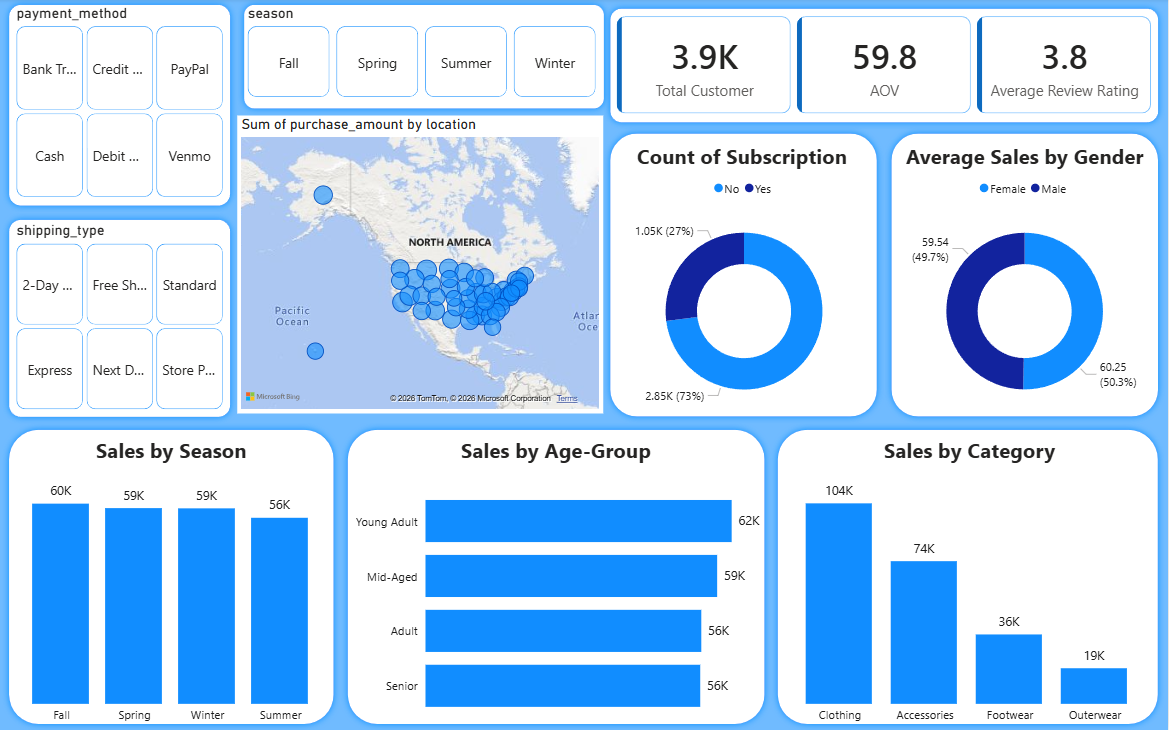

Layout of this report page (visuals, bound fields, positions):
{"tool":"powerbi","page":{"name":"Page 1","canvas":[1380,860],"ordinal":0},"visuals":[{"type":"shape","box":[717.5,4.4,658.3,149.4],"z":0},{"type":"cardVisual","fields":{"Data":["public customer_behavior.Number of customer","public customer_behavior.AOV","public customer_behavior.Average review rating"]},"box":[732.3,20.7,630.2,116.9],"z":1000},{"type":"shape","box":[717.5,150.9,328.4,347.7],"z":2000},{"type":"donutChart","fields":{"Category":["public customer_behavior.subscription_status"],"Y":["CountNonNull(public customer_behavior.subscription_status)"]},"box":[717.5,207.1,329.9,291.4],"z":3000},{"type":"shape","box":[914.3,498.6,461.6,361],"z":4000},{"type":"clusteredColumnChart","fields":{"Category":["public customer_behavior.category"],"Y":["Sum(public customer_behavior.purchase_amount)"]},"box":[914.3,553.3,461.6,301.8],"z":5000},{"type":"shape","box":[1047.4,150.9,328.4,347.7],"z":6000},{"type":"shape","box":[409.8,498.6,504.5,361],"z":7000},{"type":"clusteredBarChart","fields":{"Category":["public customer_behavior.age_group"],"Y":["Sum(public customer_behavior.purchase_amount)"]},"box":[420.2,553.3,482.3,306.2],"z":8000},{"type":"donutChart","fields":{"Category":["public customer_behavior.gender"],"Y":["Avg(public customer_behavior.purchase_amount)"]},"box":[1047.4,207.1,328.4,291.4],"z":9000},{"type":"shape","box":[13.3,498.6,396.5,361],"z":10000},{"type":"clusteredColumnChart","fields":{"Category":["public customer_behavior.season"],"Y":["Sum(public customer_behavior.purchase_amount)"]},"box":[13.3,553.3,396.5,301.8],"z":11000},{"type":"textbox","box":[914.3,508.9,466,44.4],"z":12000},{"type":"textbox","box":[13.3,508.9,396.5,44.4],"z":13000},{"type":"textbox","box":[409.8,508.9,504.5,44.4],"z":14000},{"type":"shape","box":[13.3,0,275.2,251.5],"z":15000},{"type":"textbox","box":[1047.4,164.2,328.4,42.9],"z":16000},{"type":"textbox","box":[719,164.2,328.4,42.9],"z":17000},{"type":"shape","box":[13.3,251.5,275.2,247.1],"z":18000},{"type":"shape","box":[288.5,0,437.9,137.6],"z":19000},{"type":"advancedSlicerVisual","fields":{"Values":["public customer_behavior.payment_method"]},"box":[25.2,7.4,253,232.3],"z":20000},{"type":"advancedSlicerVisual","fields":{"Values":["public customer_behavior.season"]},"box":[295.9,7.4,421.6,113.9],"z":21000},{"type":"advancedSlicerVisual","fields":{"Values":["public customer_behavior.shipping_type"]},"box":[25.2,261.9,253,224.9],"z":22000},{"type":"map","fields":{"Category":["public customer_behavior.location"],"Size":["Sum(public customer_behavior.purchase_amount)"]},"box":[288.5,137.6,429,349.1],"z":23000}]}

Visuals, with their boxes in screenshot pixels (x1, y1, x2, y2), scaled from the page's 1380x860 canvas onto the 1169x730 screenshot:
shape: {"x1": 608, "y1": 4, "x2": 1165, "y2": 131}
cardVisual - public customer_behavior.Number of customer x public customer_behavior.AOV: {"x1": 620, "y1": 18, "x2": 1154, "y2": 117}
shape: {"x1": 608, "y1": 128, "x2": 886, "y2": 423}
donutChart - public customer_behavior.subscription_status x CountNonNull(public customer_behavior.subscription_status): {"x1": 608, "y1": 176, "x2": 887, "y2": 423}
shape: {"x1": 775, "y1": 423, "x2": 1166, "y2": 729}
clusteredColumnChart - public customer_behavior.category x Sum(public customer_behavior.purchase_amount): {"x1": 775, "y1": 470, "x2": 1166, "y2": 726}
shape: {"x1": 887, "y1": 128, "x2": 1165, "y2": 423}
shape: {"x1": 347, "y1": 423, "x2": 775, "y2": 729}
clusteredBarChart - public customer_behavior.age_group x Sum(public customer_behavior.purchase_amount): {"x1": 356, "y1": 470, "x2": 765, "y2": 729}
donutChart - public customer_behavior.gender x Avg(public customer_behavior.purchase_amount): {"x1": 887, "y1": 176, "x2": 1165, "y2": 423}
shape: {"x1": 11, "y1": 423, "x2": 347, "y2": 729}
clusteredColumnChart - public customer_behavior.season x Sum(public customer_behavior.purchase_amount): {"x1": 11, "y1": 470, "x2": 347, "y2": 726}
textbox: {"x1": 775, "y1": 432, "x2": 1168, "y2": 470}
textbox: {"x1": 11, "y1": 432, "x2": 347, "y2": 470}
textbox: {"x1": 347, "y1": 432, "x2": 775, "y2": 470}
shape: {"x1": 11, "y1": 0, "x2": 244, "y2": 213}
textbox: {"x1": 887, "y1": 139, "x2": 1165, "y2": 176}
textbox: {"x1": 609, "y1": 139, "x2": 887, "y2": 176}
shape: {"x1": 11, "y1": 213, "x2": 244, "y2": 423}
shape: {"x1": 244, "y1": 0, "x2": 615, "y2": 117}
advancedSlicerVisual - public customer_behavior.payment_method: {"x1": 21, "y1": 6, "x2": 236, "y2": 203}
advancedSlicerVisual - public customer_behavior.season: {"x1": 251, "y1": 6, "x2": 608, "y2": 103}
advancedSlicerVisual - public customer_behavior.shipping_type: {"x1": 21, "y1": 222, "x2": 236, "y2": 413}
map - public customer_behavior.location x Sum(public customer_behavior.purchase_amount): {"x1": 244, "y1": 117, "x2": 608, "y2": 413}
